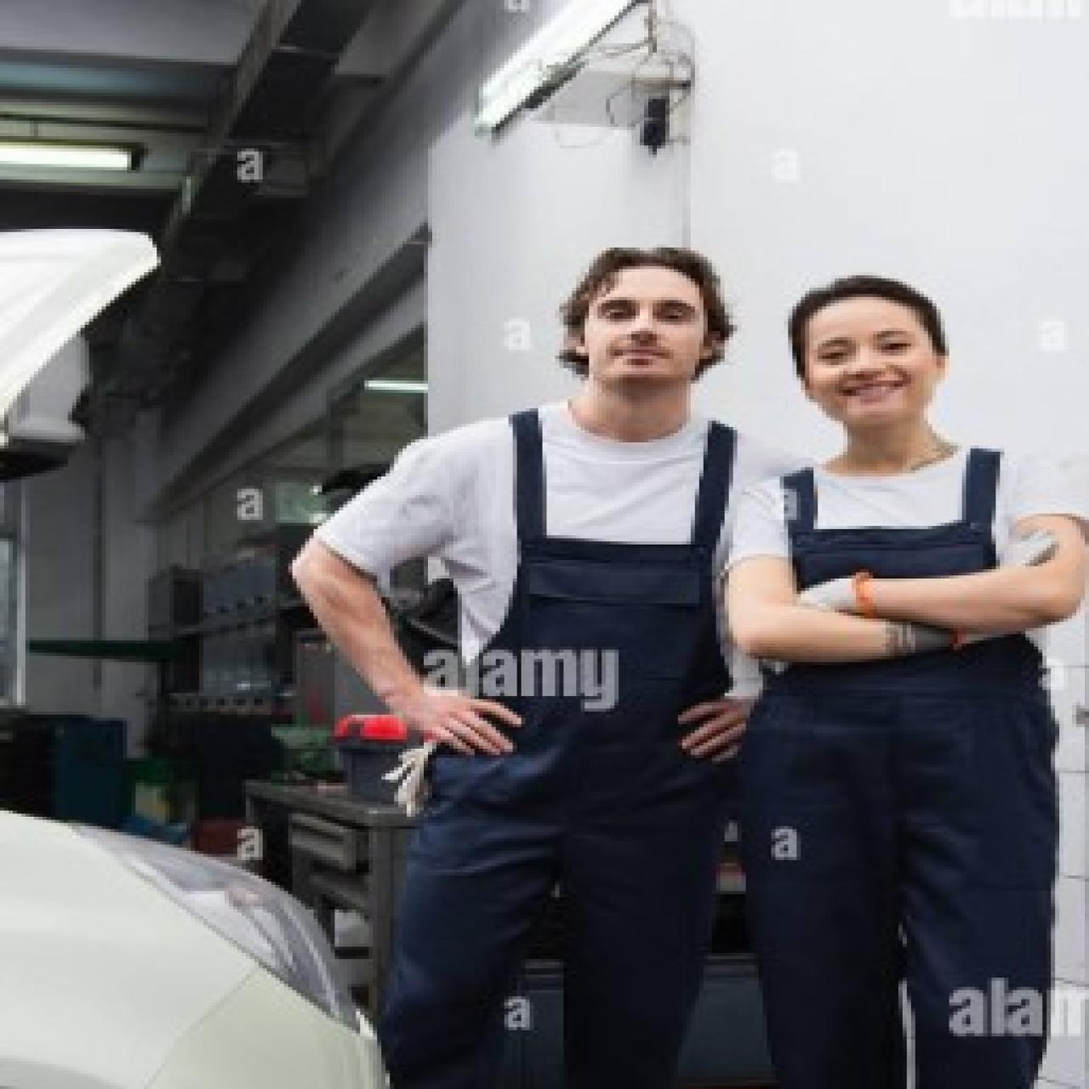NO_Safety_Vest: (466, 407, 748, 801), (757, 448, 1035, 785)
Person: (287, 223, 788, 1083), (733, 251, 1089, 1075)
